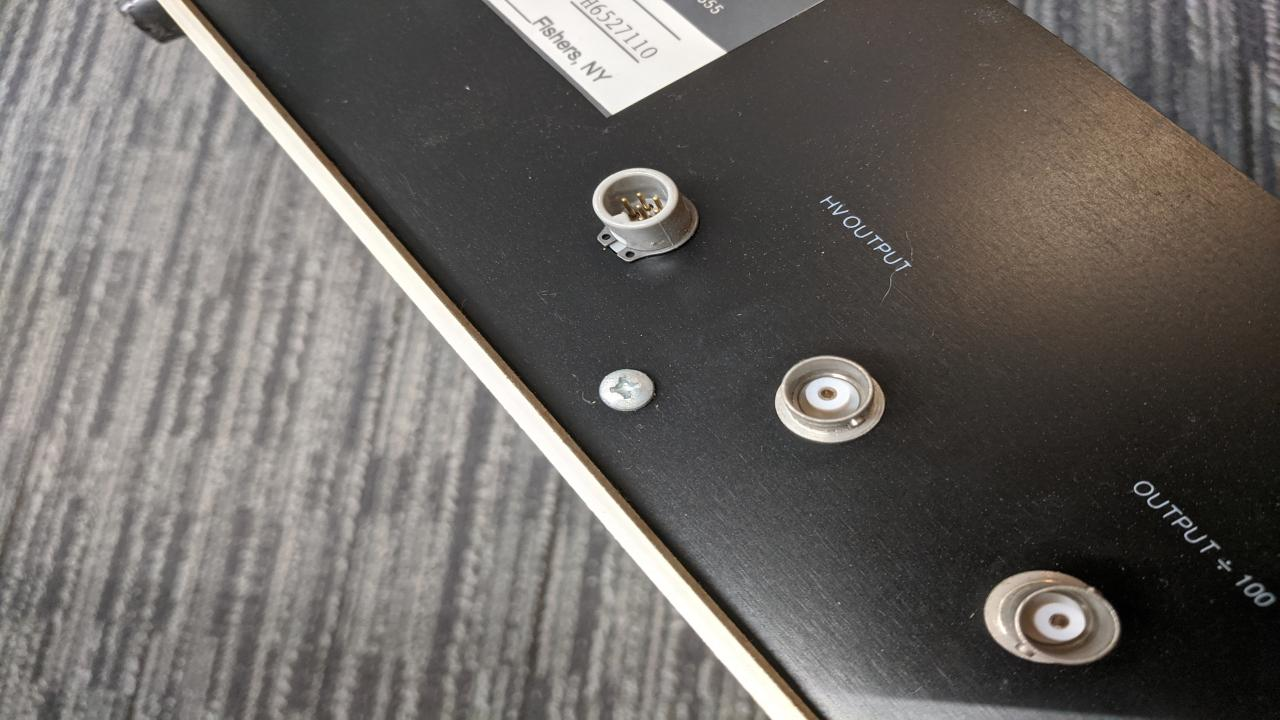CRS: (600, 368, 655, 410)
